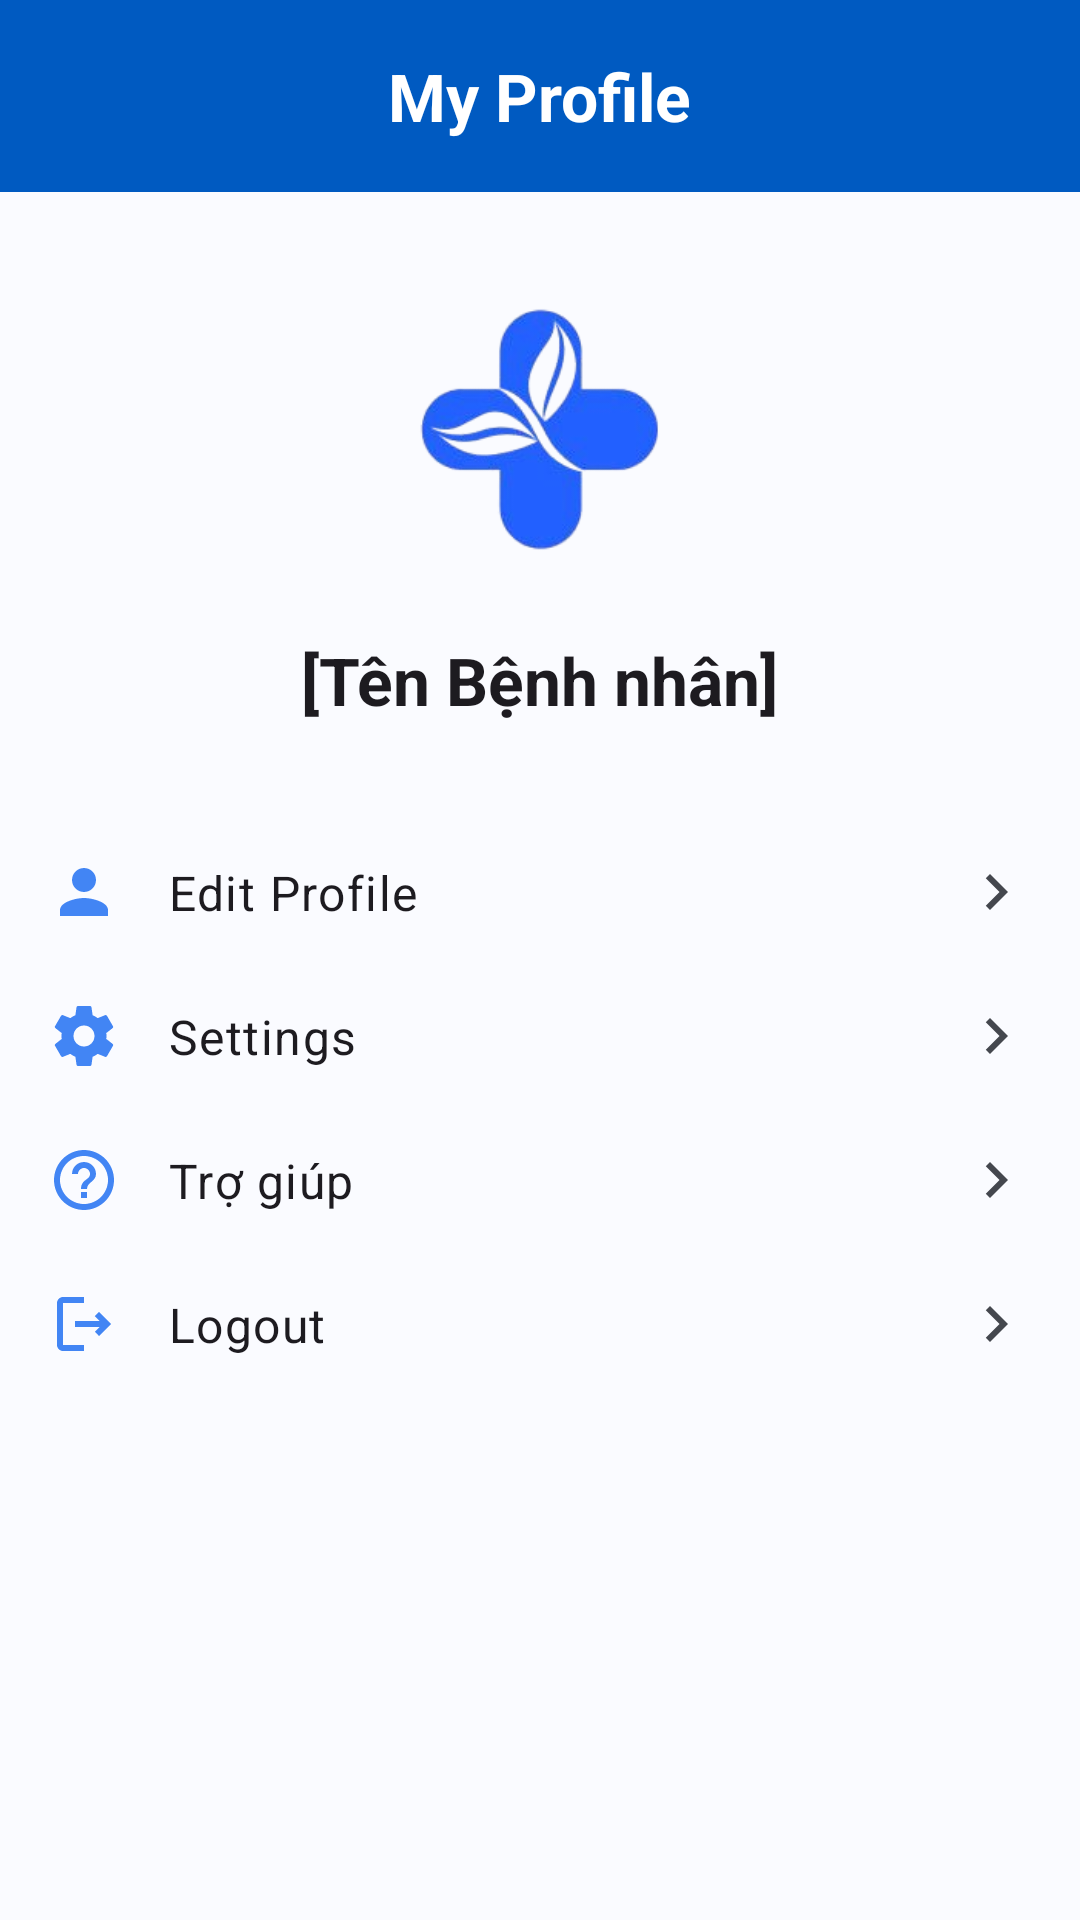

Icon bounding boxes for this 1080 x 1920 phone screenshot, format bbox(x1, y1, x2, y2):
chevron right: bbox(986, 874, 1008, 910), bbox(986, 1018, 1008, 1054), bbox(986, 1162, 1008, 1198), bbox(986, 1306, 1008, 1342)
help: bbox(54, 1150, 114, 1210)
person: bbox(60, 868, 108, 916)
